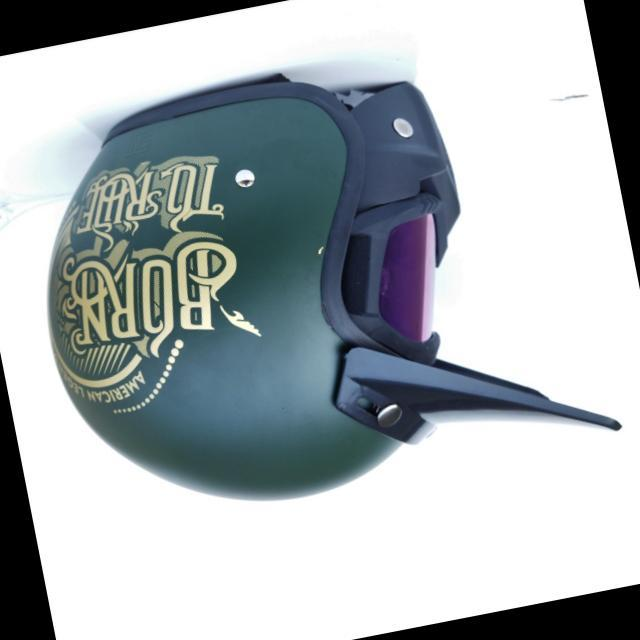Helm: (6, 18, 632, 541)
